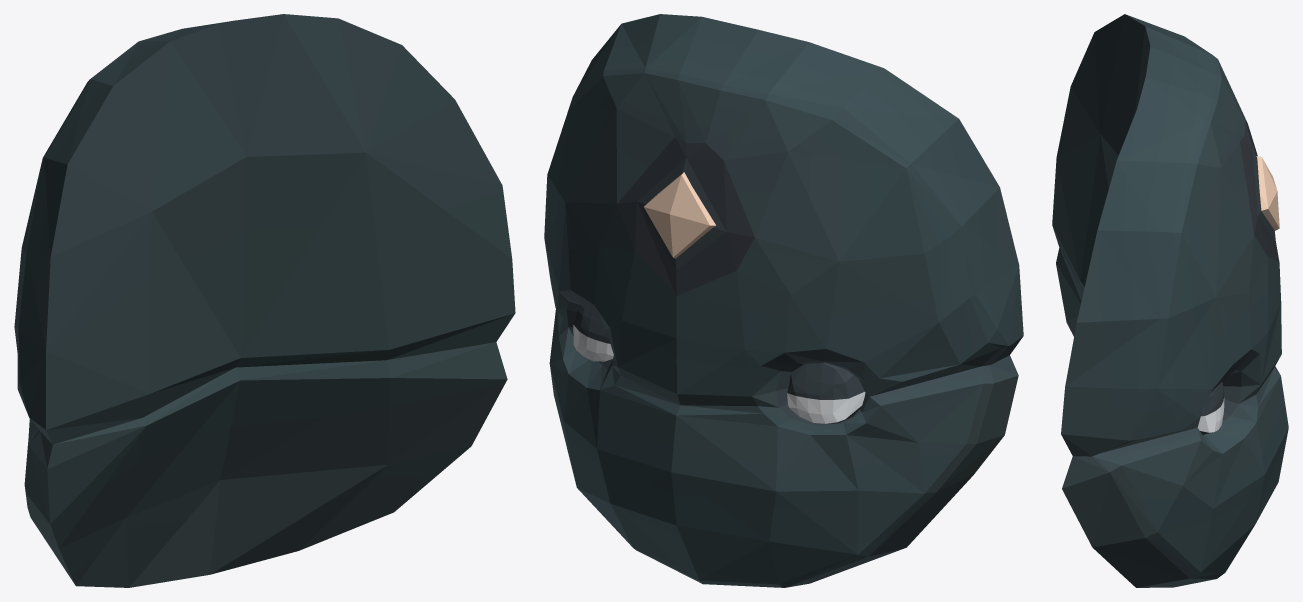
The model's file is CharSkyKid_Mask_BasicSleepy.glb.
3 renders of one model, left to right at view 1: azimuth 30°, elevation 25°; view 2: azimuth 150°, elevation 25°; view 3: azimuth 270°, elevation 25°, orthographic. The views are drawn at different scales.
Parts seen in each view (by area): view 1: CharSkyKid_Mask_BasicSleepy; view 2: CharSkyKid_Mask_BasicSleepy; view 3: CharSkyKid_Mask_BasicSleepy.
Boxes of the visible parts, left/top/right/bottom form: CharSkyKid_Mask_BasicSleepy: left=14, top=14, right=515, bottom=587; CharSkyKid_Mask_BasicSleepy: left=544, top=14, right=1023, bottom=587; CharSkyKid_Mask_BasicSleepy: left=1052, top=14, right=1288, bottom=587.
Size of the model in its own units: 2.15 by 2.47 by 1.04.
1 material, 1 textured.
